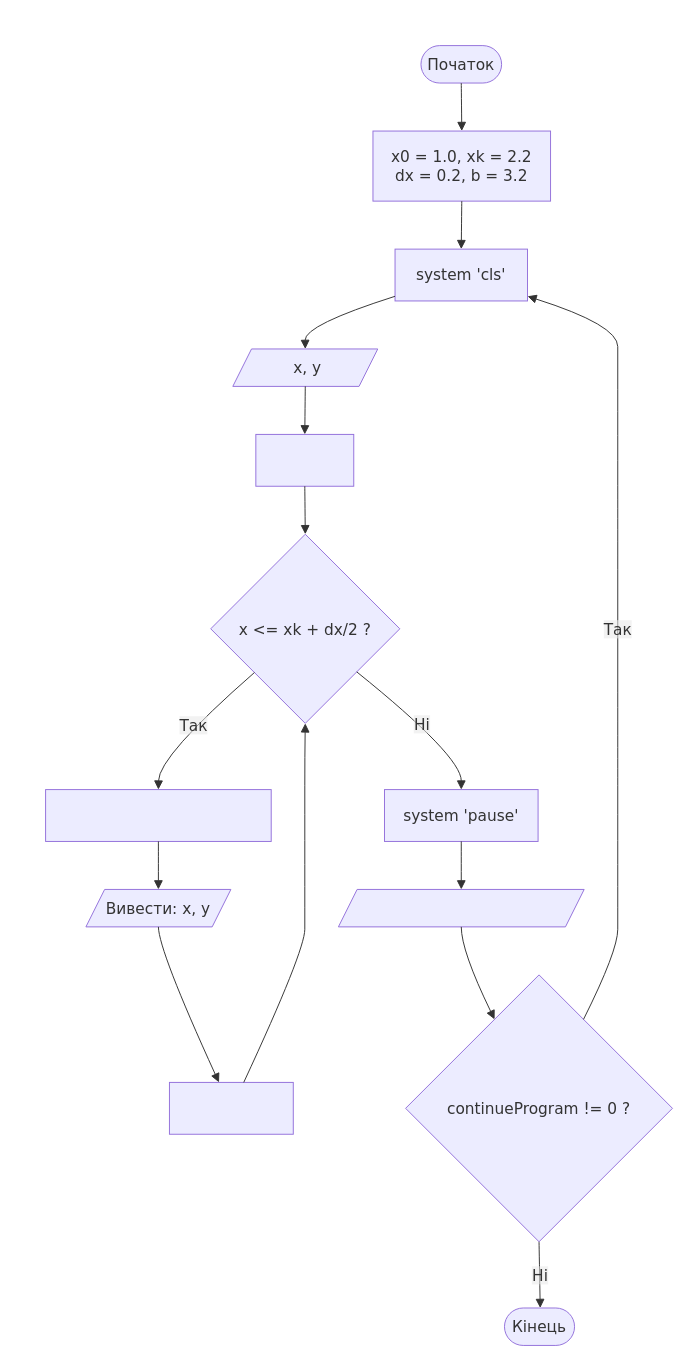
Image size: 689x1362. Some labels were removed from this diagram. The centre of each missing label's shape, as x and y in pixels:
continueProgram: point 460,907
x = x + dx: point 230,1107
x = x0: point 304,459
y = 9.0 (x^3 + b^3) tan x: point 158,815
